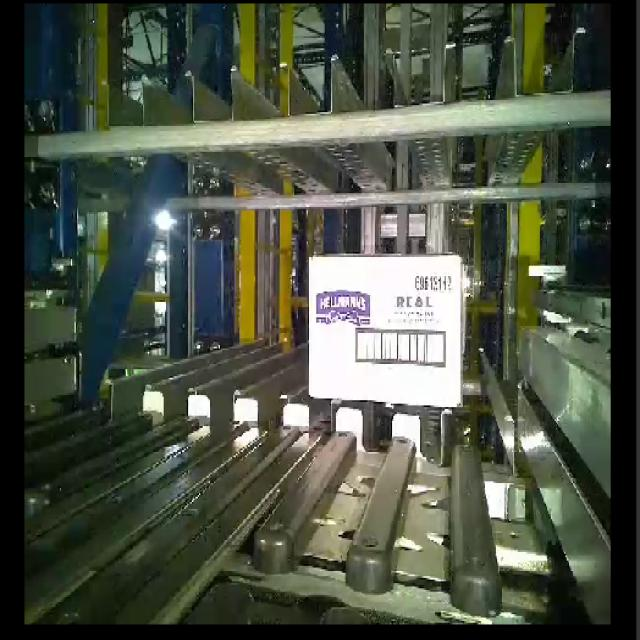box: (308, 255, 462, 410)
